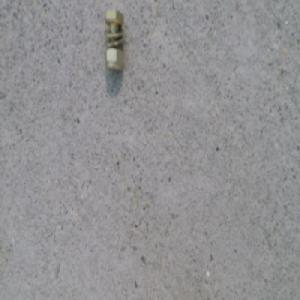BoltNutSet: (103, 14, 124, 76)
